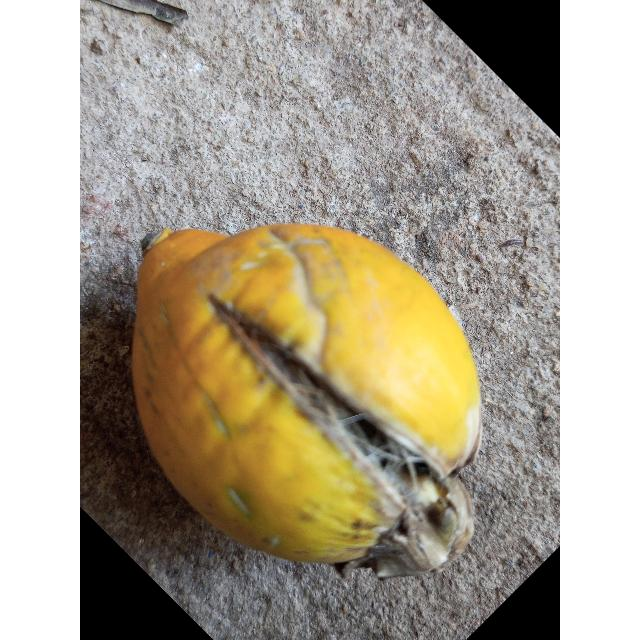damaged: (131, 222, 482, 579)
